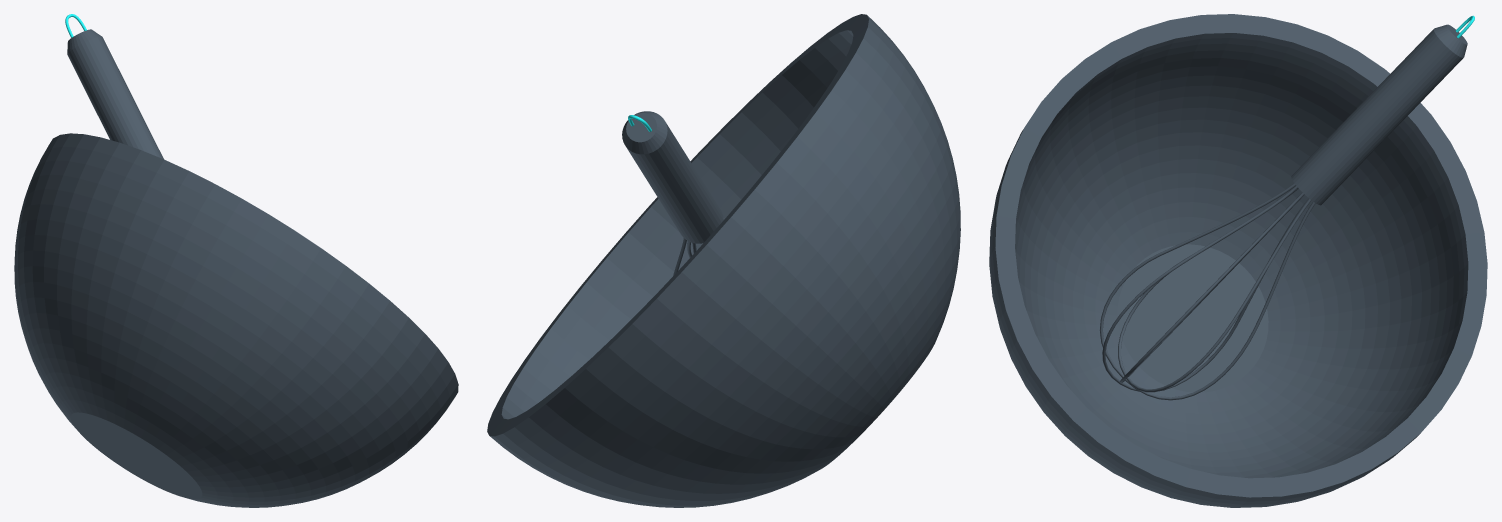
Rendered from mixer.glb.
3 renders of one model, left to right at view 1: azimuth 30°, elevation 25°; view 2: azimuth 150°, elevation 25°; view 3: azimuth 270°, elevation 25°, orthographic. The views are drawn at different scales.
Visible parts, largest first — view 1: mixer; view 2: mixer; view 3: mixer.
Boxes of the visible parts, bbox=[...] form: mixer: bbox=[14, 14, 458, 507]; mixer: bbox=[487, 14, 960, 507]; mixer: bbox=[989, 14, 1487, 507].
Size of the model in its own units: 2.69 by 3 by 3.15.
